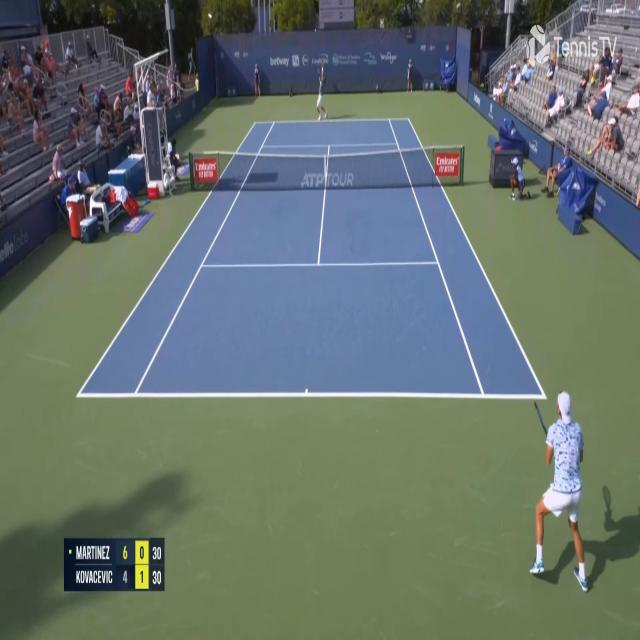tennis-player: (528, 383, 594, 594), (314, 64, 328, 121)
